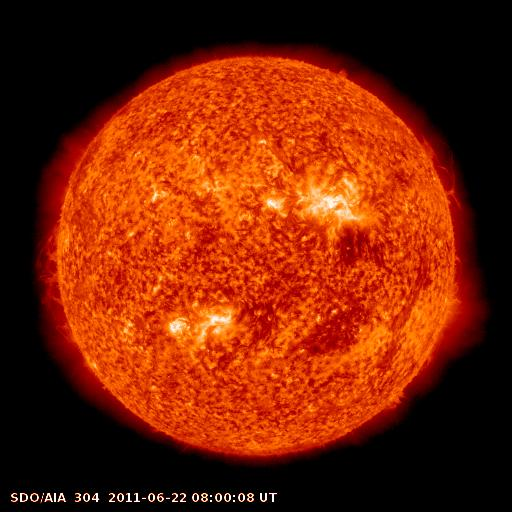prominence: (414, 127, 468, 214), (35, 223, 73, 310), (379, 376, 411, 420), (446, 255, 471, 293), (331, 59, 357, 85)
